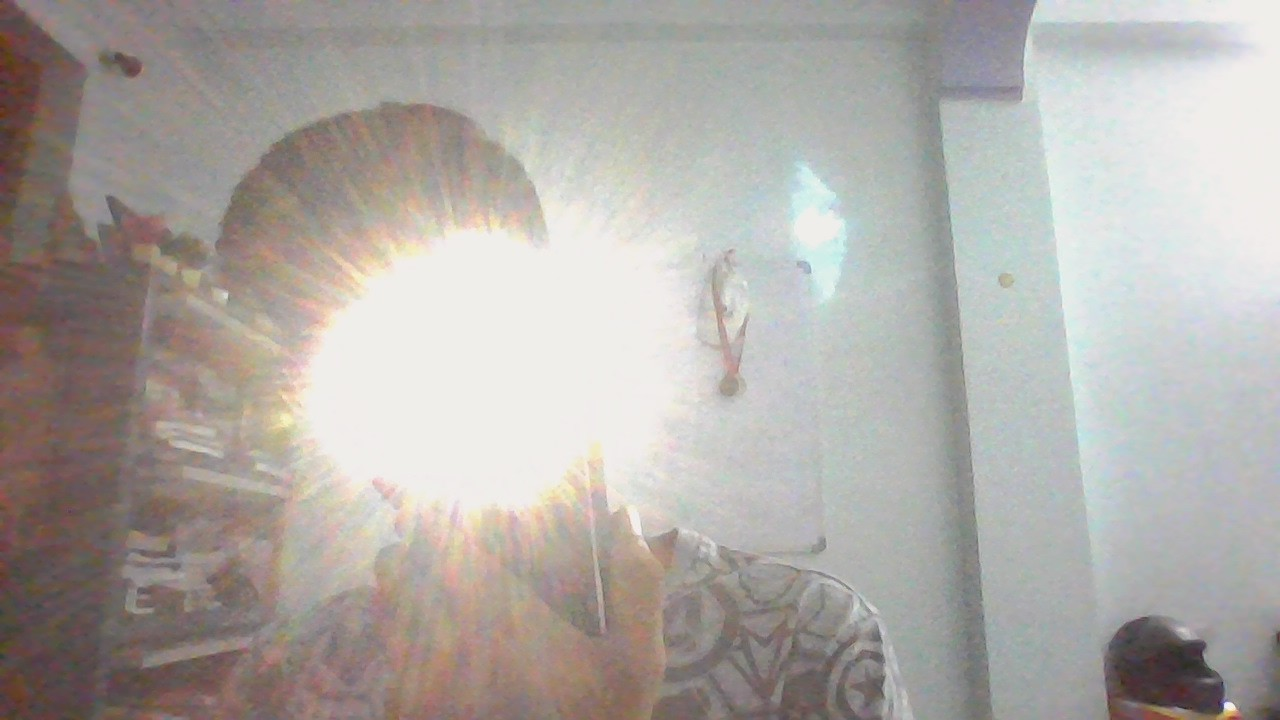Glare: (298, 232, 589, 504), (591, 232, 653, 433)
